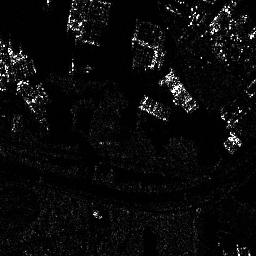ship: (162, 72, 198, 114), (139, 98, 170, 122)
